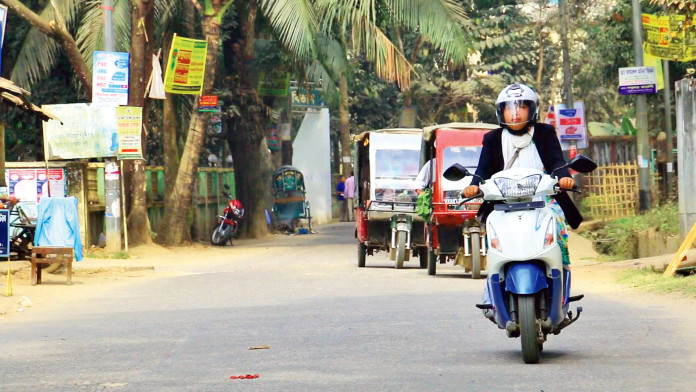auto rickshaw: (352, 127, 427, 270), (420, 121, 487, 278)
motorbike: (210, 184, 243, 246)
rickshaw: (271, 164, 310, 231)
scooter: (441, 157, 599, 364)
